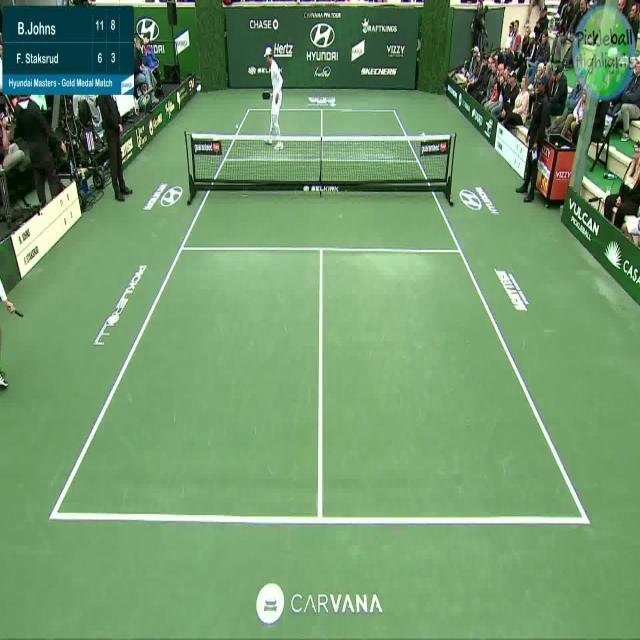ball: (233, 117, 245, 136)
